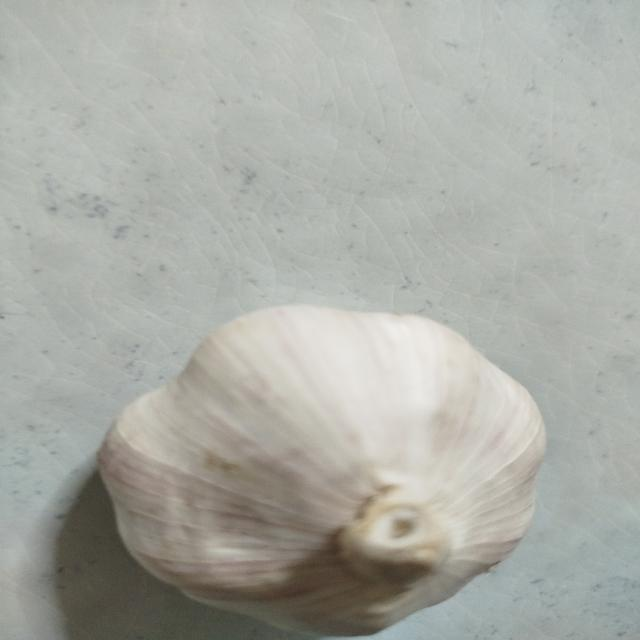garlic: (95, 303, 547, 637)
